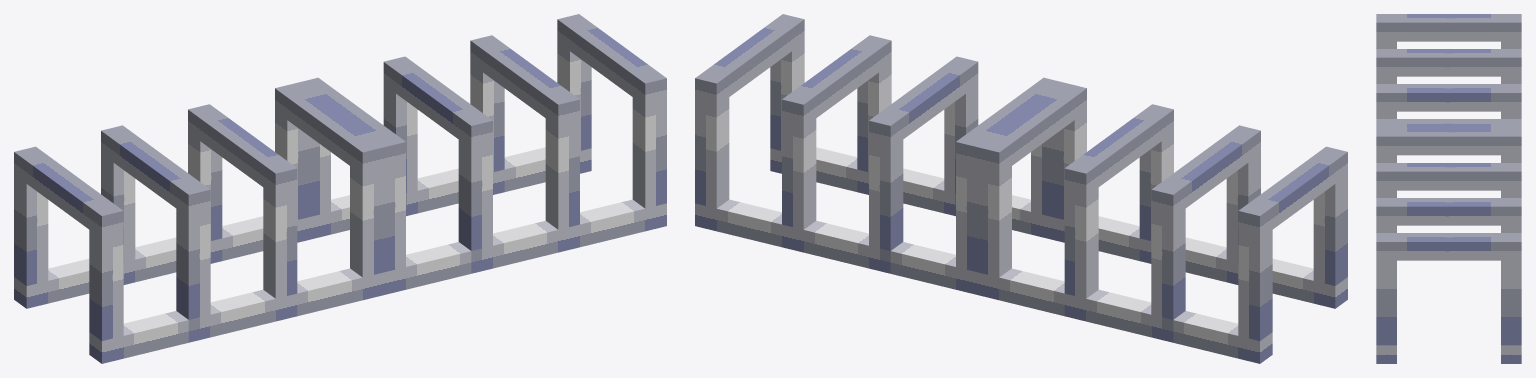
File: bicycle-rack-2.gltf
3 views of the same model, side by side, from view 1: azimuth 30°, elevation 25°; view 2: azimuth 150°, elevation 25°; view 3: azimuth 270°, elevation 25° (orthographic). The views are drawn at different scales.
Visible parts, largest first — view 1: cube (×36); view 2: cube (×36); view 3: cube (×26).
Part boxes in pixels (x1,y1,x2,y2): cube (×36): (14, 14, 666, 363); cube (×36): (695, 14, 1347, 363); cube (×26): (1376, 14, 1521, 363).
Size of the model in its own units: 3.25 by 0.8125 by 0.875.
Materials: 1 (1 with a texture image).
